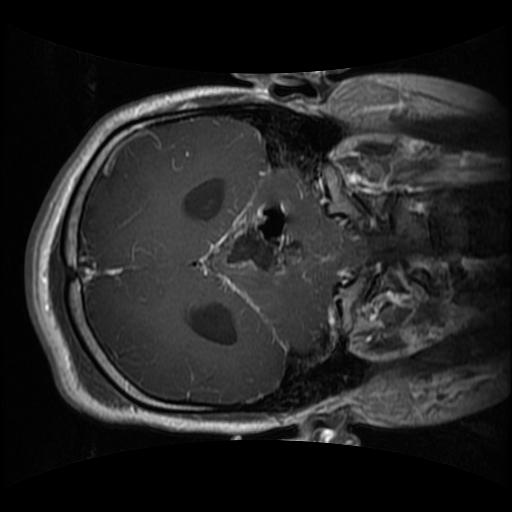glioma: (197, 198, 306, 284)
